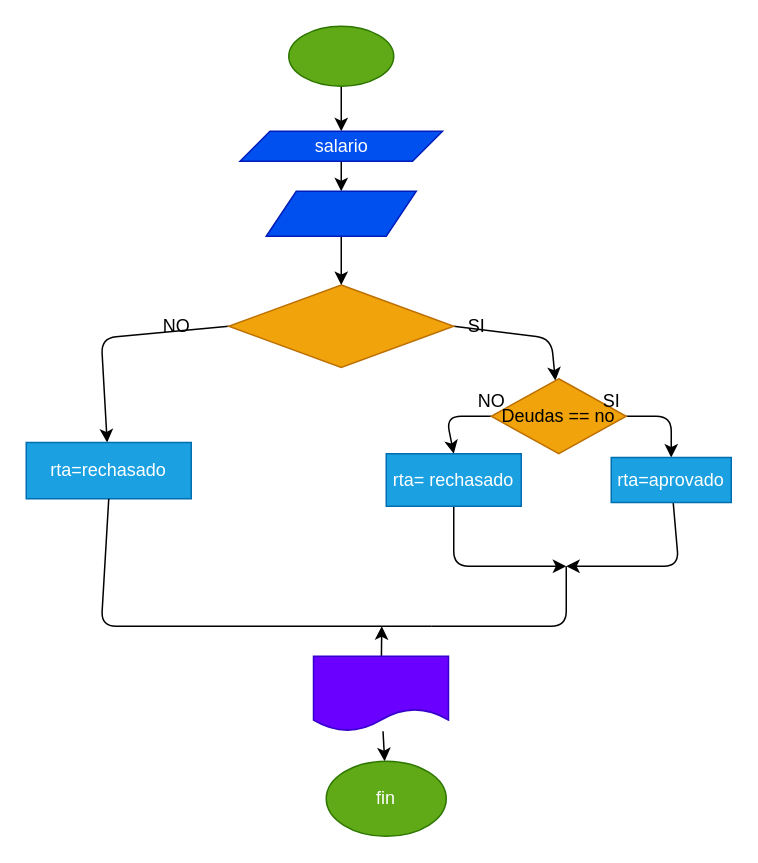
Some shapes in this 758 by 863 pixel diagram are drawn without their labels. The centre of each missing label's shape, as x and y in pixels:
"inicio" belongs at pixel 340 55.
"rta" belongs at pixel 380 693.
"salario<45000" belongs at pixel 340 326.
